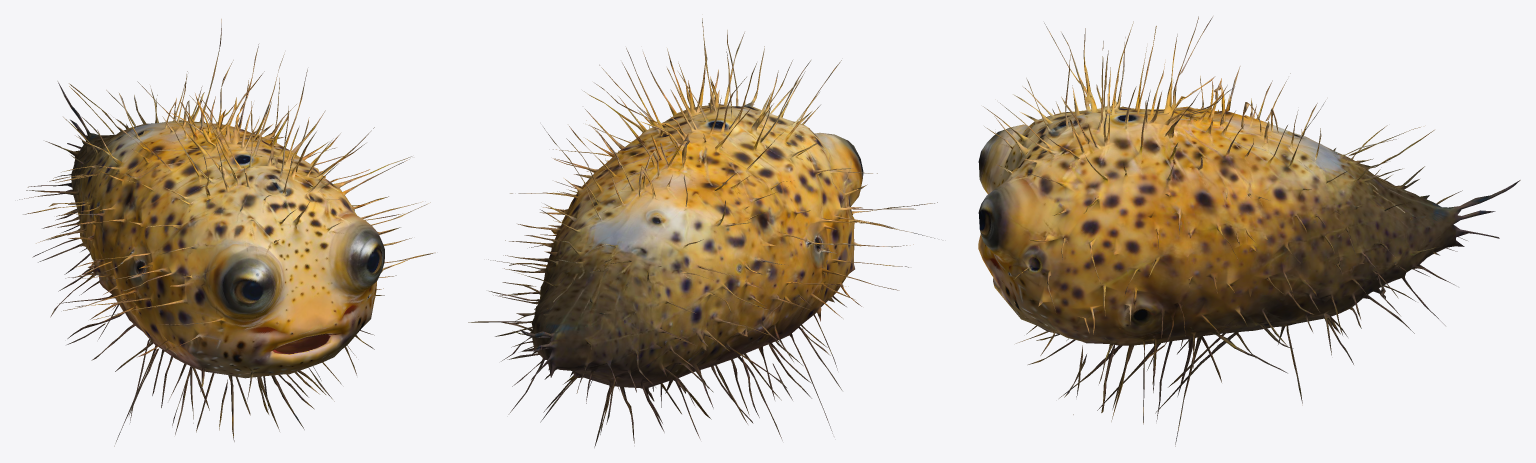
File: Spiky_remesh.fbx
3 renders of one model, left to right at view 1: azimuth 30°, elevation 25°; view 2: azimuth 150°, elevation 25°; view 3: azimuth 270°, elevation 25°, orthographic. The views are drawn at different scales.
Parts seen in each view (by area): view 1: Mesh1; view 2: Mesh1; view 3: Mesh1.
Boxes of the visible parts, <box> form: Mesh1: <box>19,19,435,446</box>; Mesh1: <box>468,18,937,447</box>; Mesh1: <box>978,16,1520,446</box>.
Size of the model in its own units: 139 by 134 by 172.
1 material, 1 textured.
